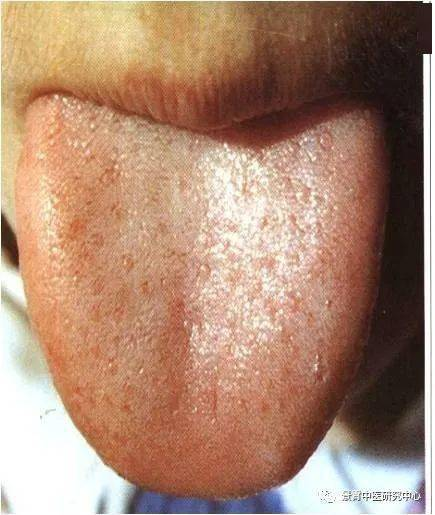baitaishe: (16, 93, 386, 503)
hongdianshe: (66, 214, 156, 416)
